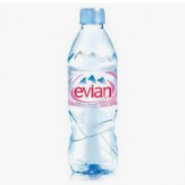Bottle: (67, 9, 119, 176)
